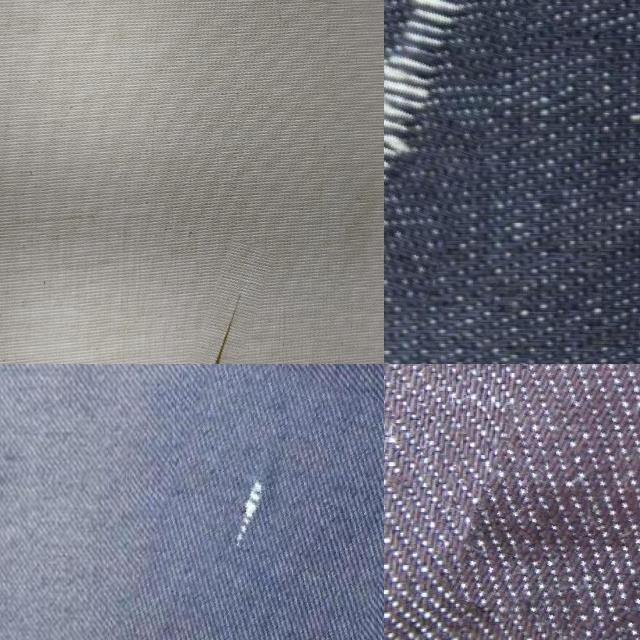stains: (138, 364, 384, 640), (483, 364, 640, 640), (384, 0, 515, 299), (192, 239, 264, 364)
